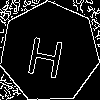H: (24, 27, 68, 79)
